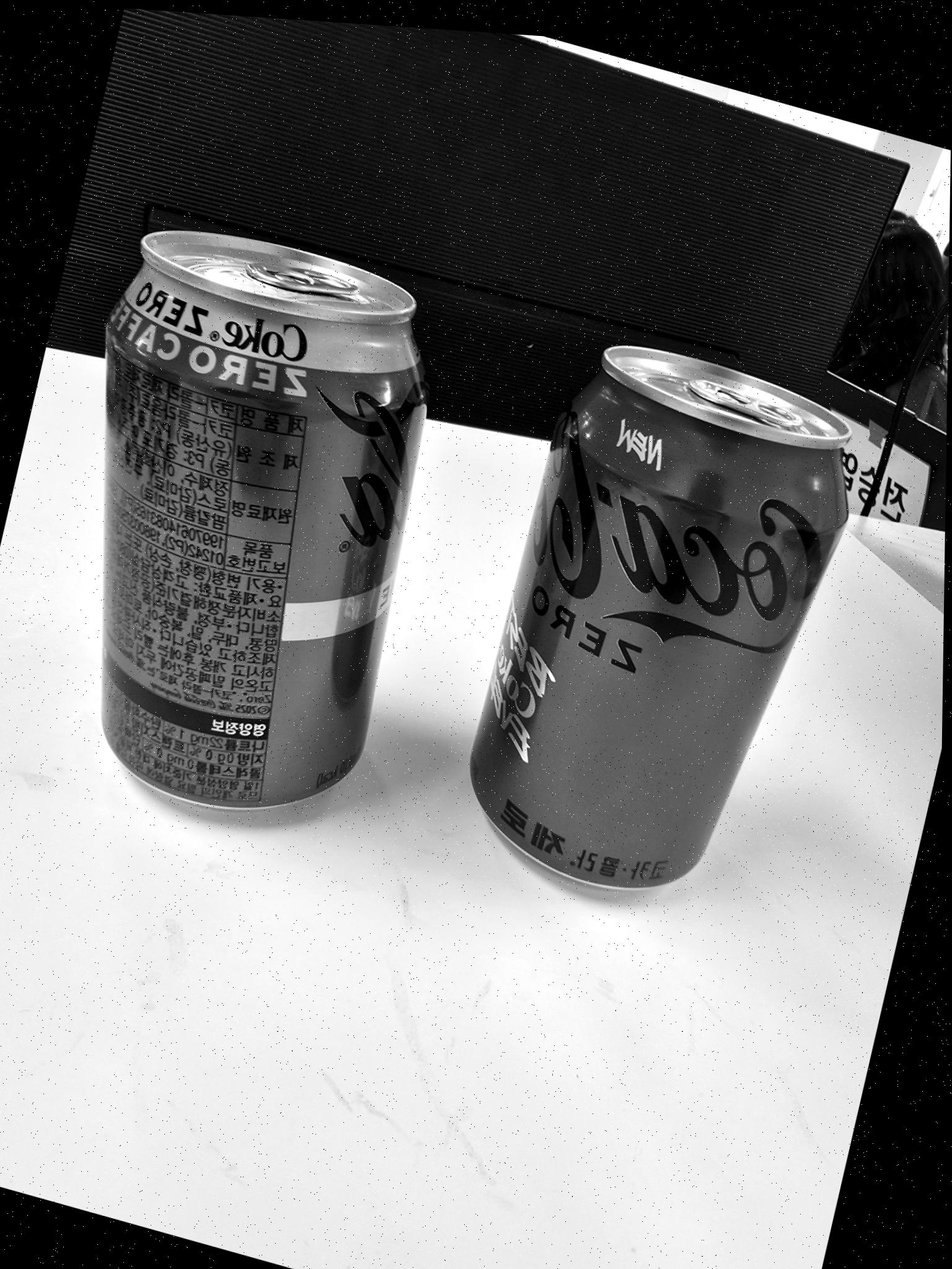can_coke_decaf: (99, 227, 428, 814)
can_coke_zero: (468, 343, 872, 896)
